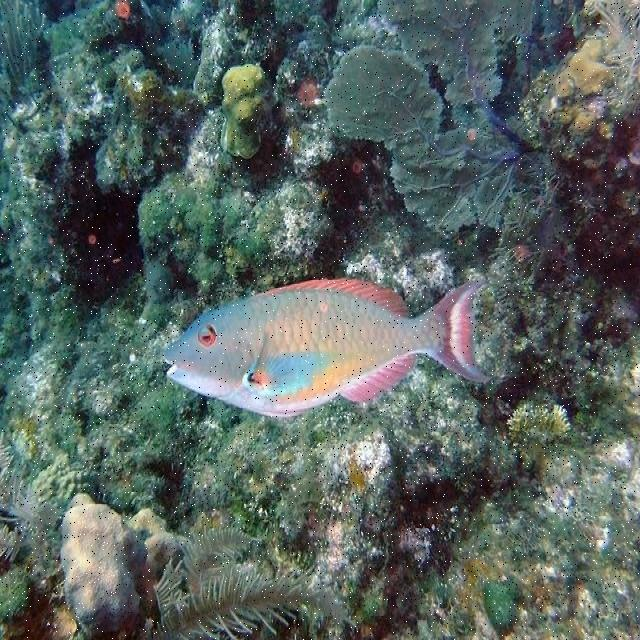fish: (162, 276, 490, 418)
